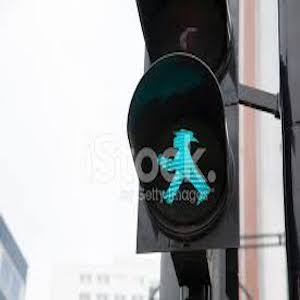green: (149, 122, 218, 217)
